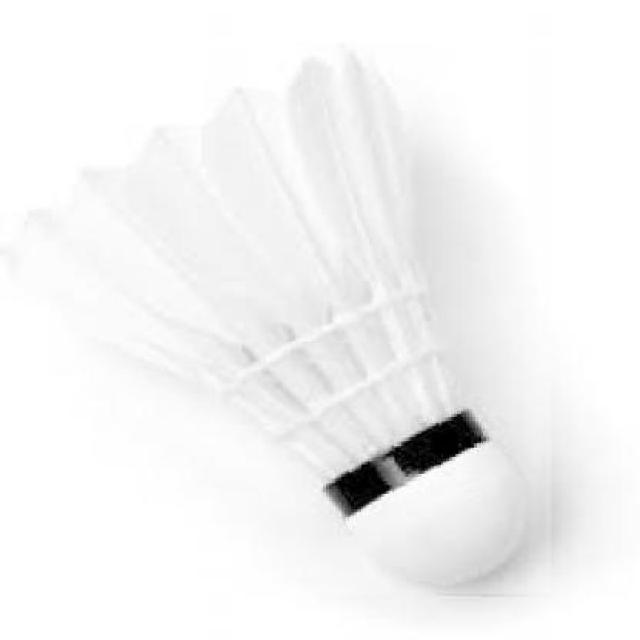Shuttlecock: (18, 41, 551, 594)
